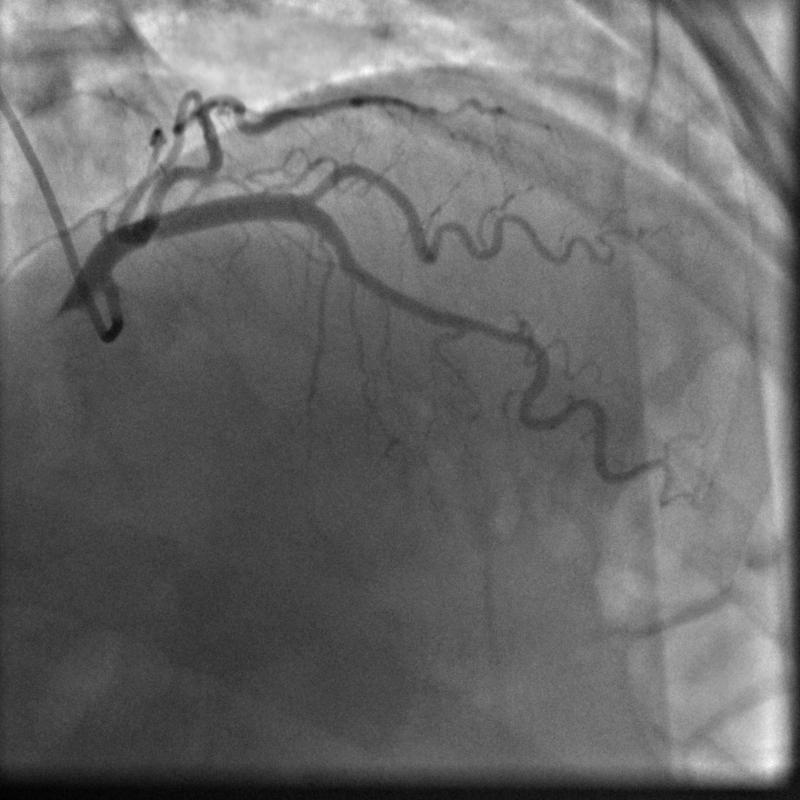Stenosis: (459, 315, 529, 349)
